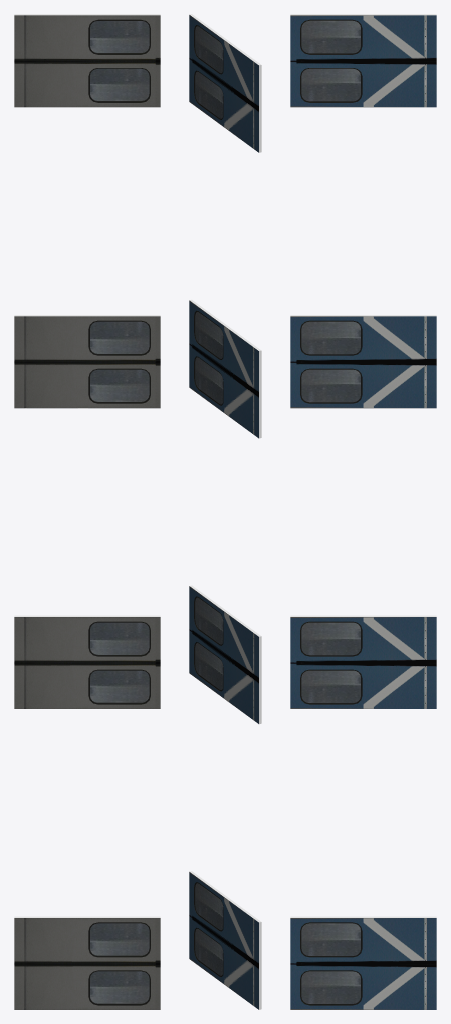
Rendered from doors_left.obj.
3 views of the same model, side by side, from view 1: azimuth 90°, elevation 25°; view 2: azimuth 210°, elevation 25°; view 3: azimuth 270°, elevation 25° (orthographic). The views are drawn at different scales.
Visible parts, largest first — view 1: Object_18, Object_13, Object_33, Object_8, Object_3, Object_23, Object_38, Object_28, Object_40, Object_15, Object_20, Object_35 (+7 smaller); view 2: Object_33, Object_3, Object_13, Object_28, Object_18, Object_23, Object_8, Object_38, Object_40, Object_5, Object_10, Object_25 (+8 smaller); view 3: Object_18, Object_13, Object_33, Object_8, Object_3, Object_23, Object_38, Object_28, Object_10, Object_20, Object_15, Object_5 (+4 smaller).
Part boxes in pixels (x1=…): Object_18: x1=14, y1=362, x2=160, y2=408; Object_13: x1=14, y1=316, x2=160, y2=362; Object_33: x1=14, y1=918, x2=160, y2=964; Object_8: x1=14, y1=61, x2=160, y2=107; Object_3: x1=14, y1=15, x2=160, y2=61; Object_23: x1=14, y1=617, x2=160, y2=663; Object_38: x1=14, y1=964, x2=160, y2=1009; Object_28: x1=14, y1=663, x2=160, y2=708; Object_40: x1=90, y1=971, x2=149, y2=1003; Object_15: x1=90, y1=321, x2=149, y2=353; Object_20: x1=90, y1=369, x2=149, y2=401; Object_35: x1=90, y1=923, x2=149, y2=955; Object_33: x1=189, y1=872, x2=258, y2=965; Object_3: x1=189, y1=15, x2=258, y2=108; Object_13: x1=189, y1=300, x2=258, y2=394; Object_28: x1=189, y1=630, x2=258, y2=723; Object_18: x1=189, y1=344, x2=258, y2=438; Object_23: x1=189, y1=586, x2=258, y2=679; Object_8: x1=189, y1=58, x2=258, y2=152; Object_38: x1=189, y1=915, x2=258, y2=1009; Object_40: x1=195, y1=928, x2=223, y2=975; Object_5: x1=195, y1=26, x2=223, y2=73; Object_10: x1=195, y1=71, x2=223, y2=118; Object_25: x1=195, y1=597, x2=223, y2=644; Object_18: x1=290, y1=362, x2=436, y2=408; Object_13: x1=290, y1=316, x2=436, y2=362; Object_33: x1=290, y1=918, x2=436, y2=964; Object_8: x1=290, y1=61, x2=436, y2=107; Object_3: x1=290, y1=15, x2=436, y2=61; Object_23: x1=290, y1=617, x2=436, y2=663; Object_38: x1=290, y1=964, x2=436, y2=1009; Object_28: x1=290, y1=663, x2=436, y2=708; Object_10: x1=301, y1=68, x2=360, y2=101; Object_20: x1=301, y1=369, x2=360, y2=402; Object_15: x1=301, y1=321, x2=360, y2=354; Object_5: x1=301, y1=20, x2=360, y2=53.
Size of the model in its own units: 0.0431 by 15.24 by 2.03.
40 materials, 32 textured.
